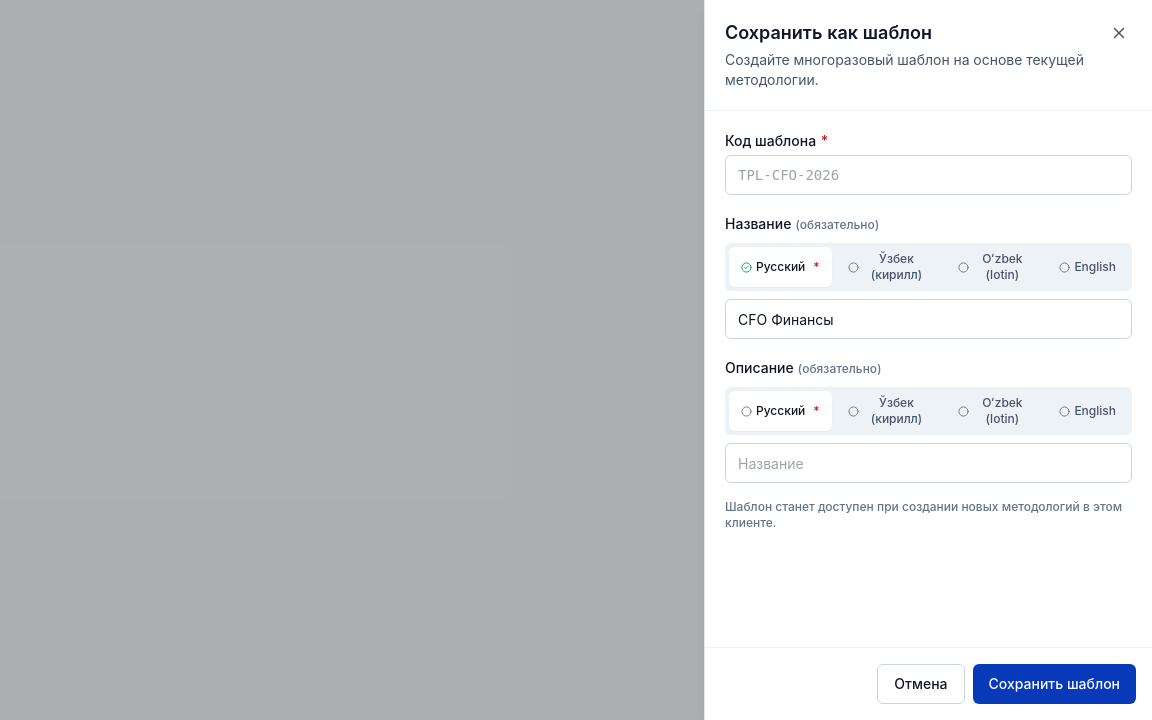
Test case: SaveAsTemplateDrawer (Epic E) › requires a template code before submitting
Step 1. Click the button "Сохранить шаблон" → (1054, 684), box [972,664,1136,704]
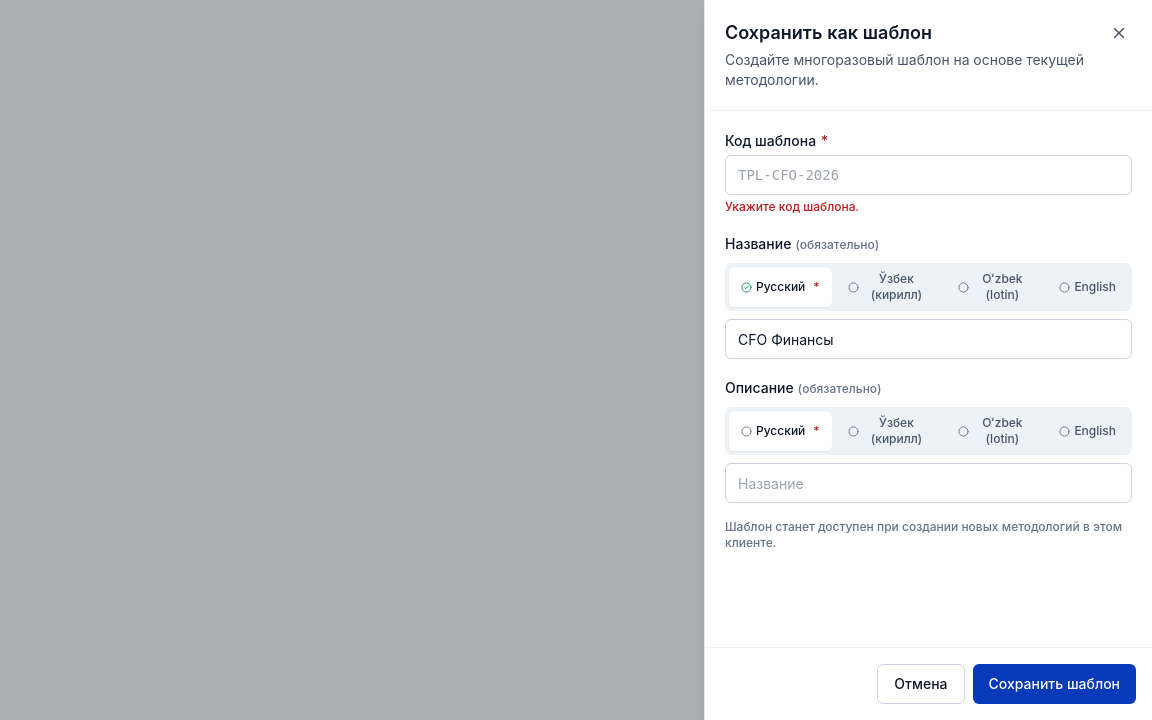
Result: the message "Укажите код шаблона." is shown at [725,199,859,214]
